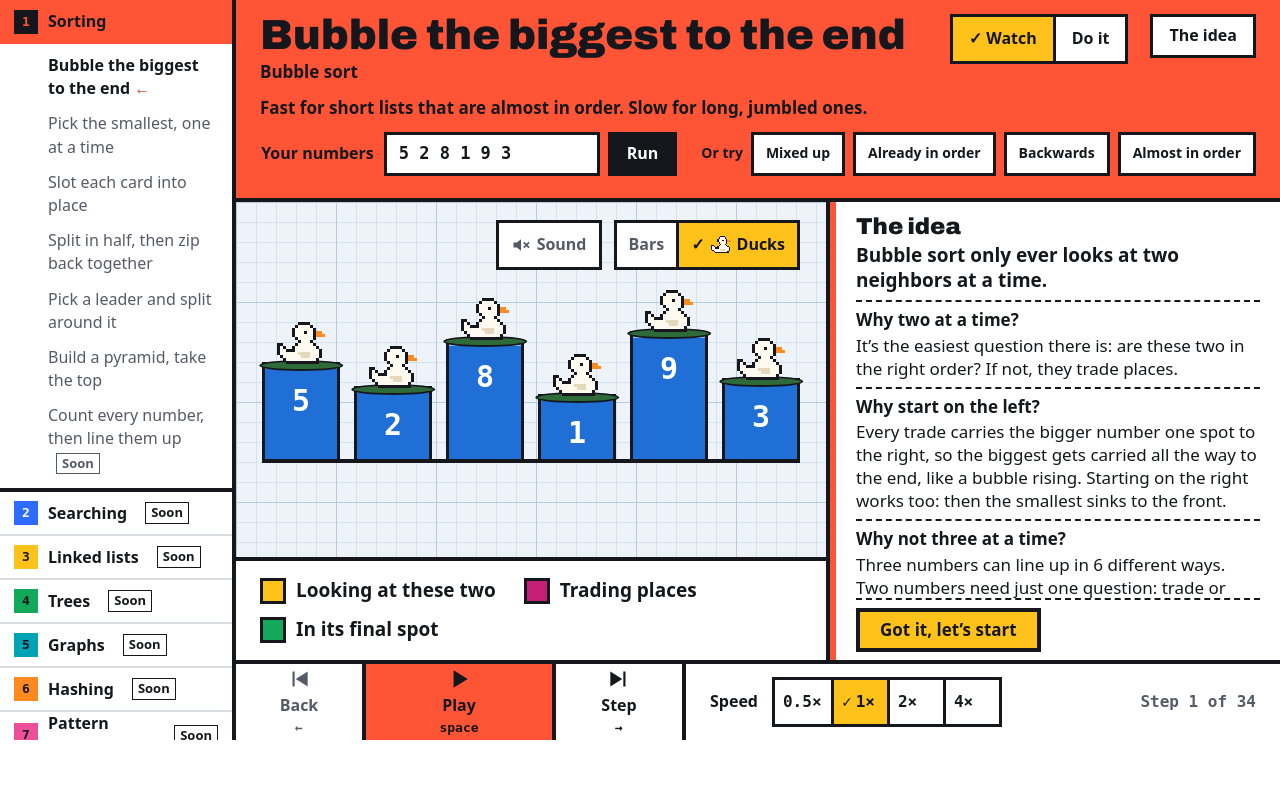
The idea button in the band › "Back to the steps" closes it and returns focus to the button
Press Arrowright Arrowright
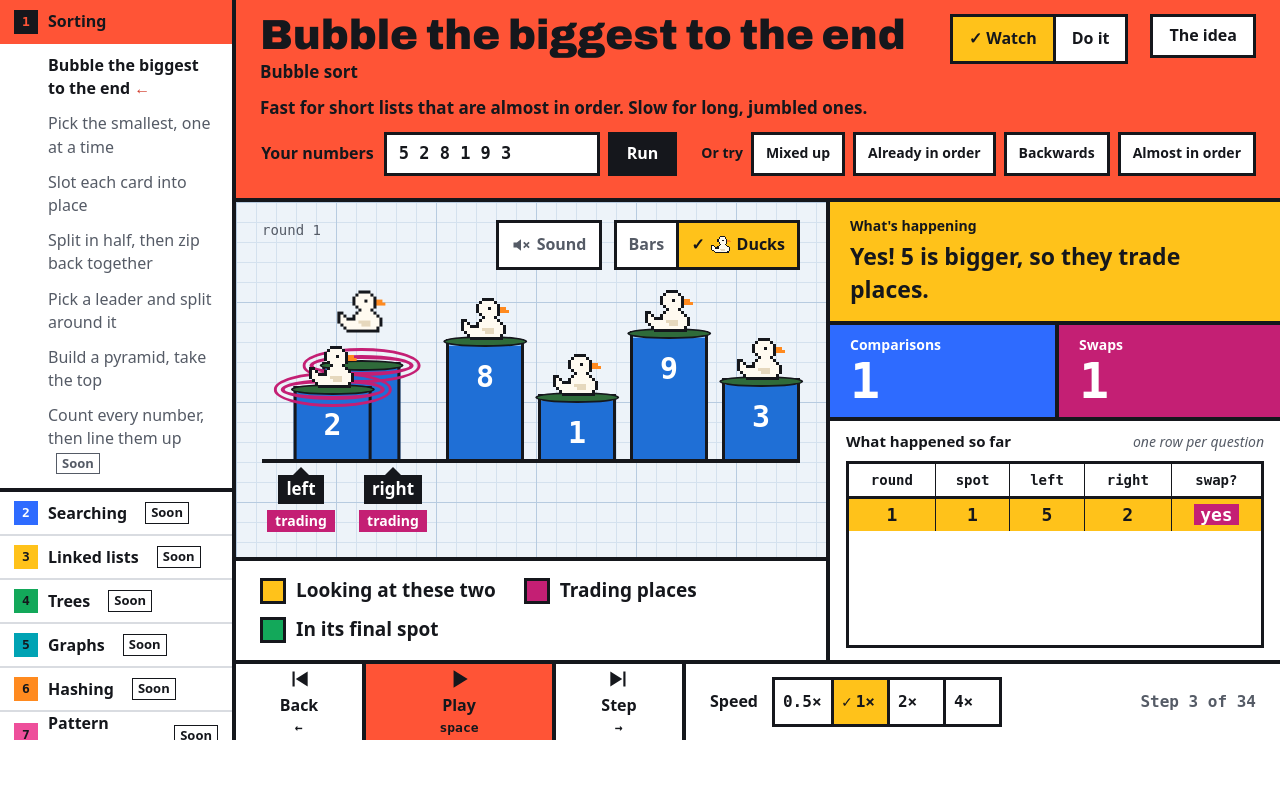
Click the button "The idea": [1203, 36] box [1150,14,1256,58]
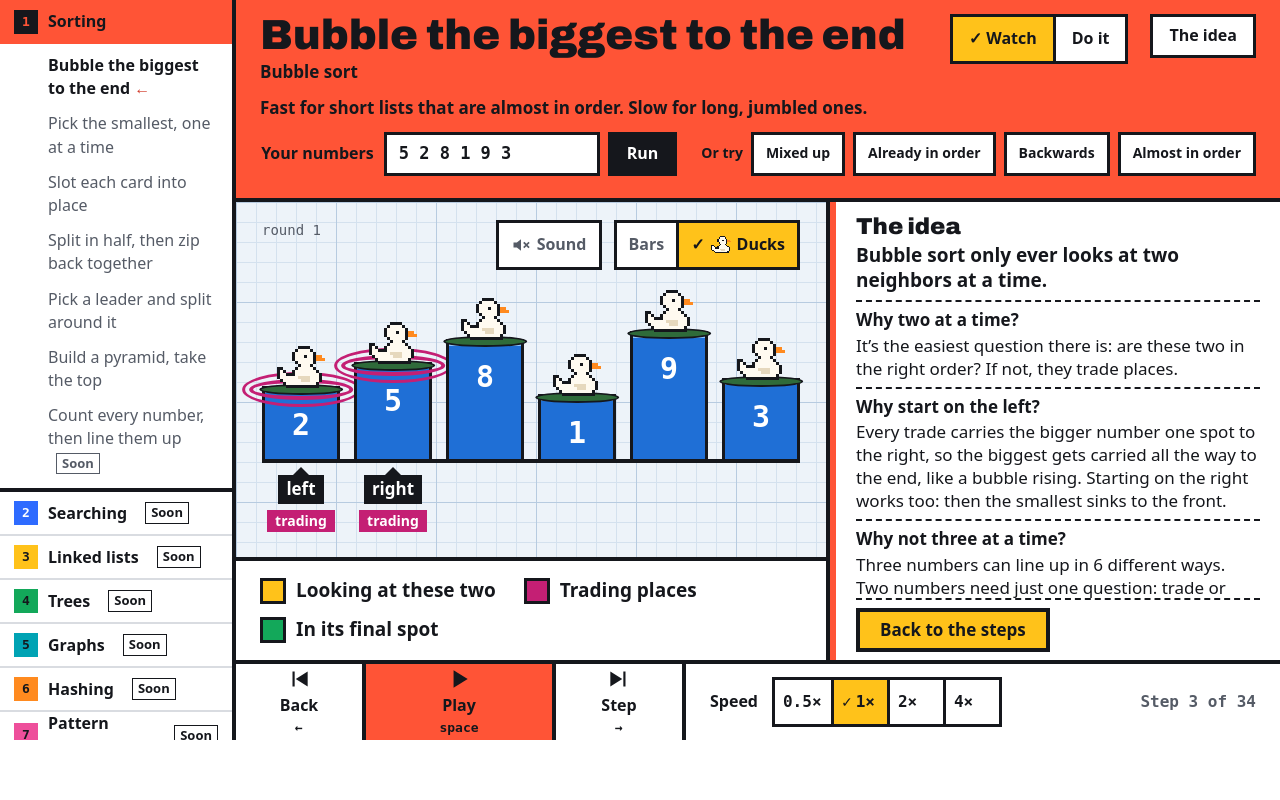
Click the button "Back to the steps": [953, 630] box [856,608,1050,652]
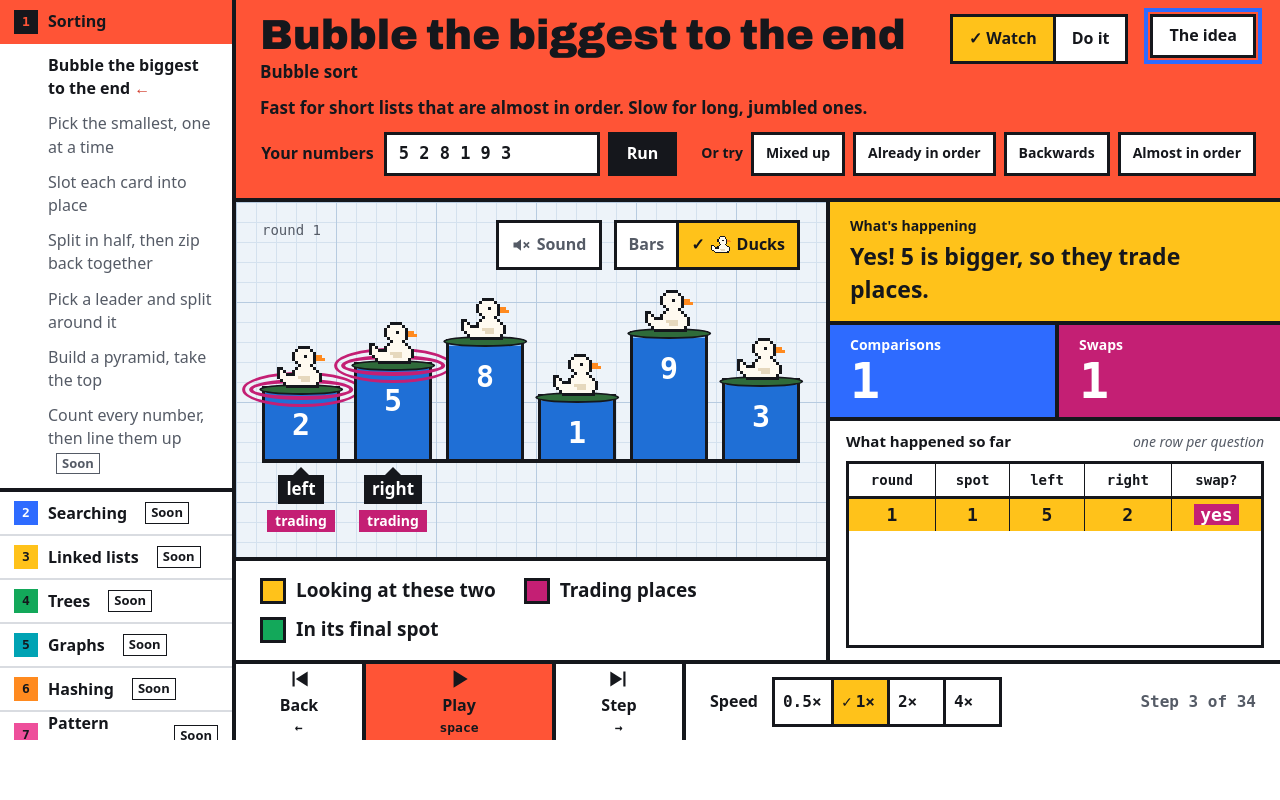
Check: the text "Step 3 of 34" is shown, box [1140,692,1256,711]
Check: the element "What's happening" is shown, box [830,202,1279,325]
